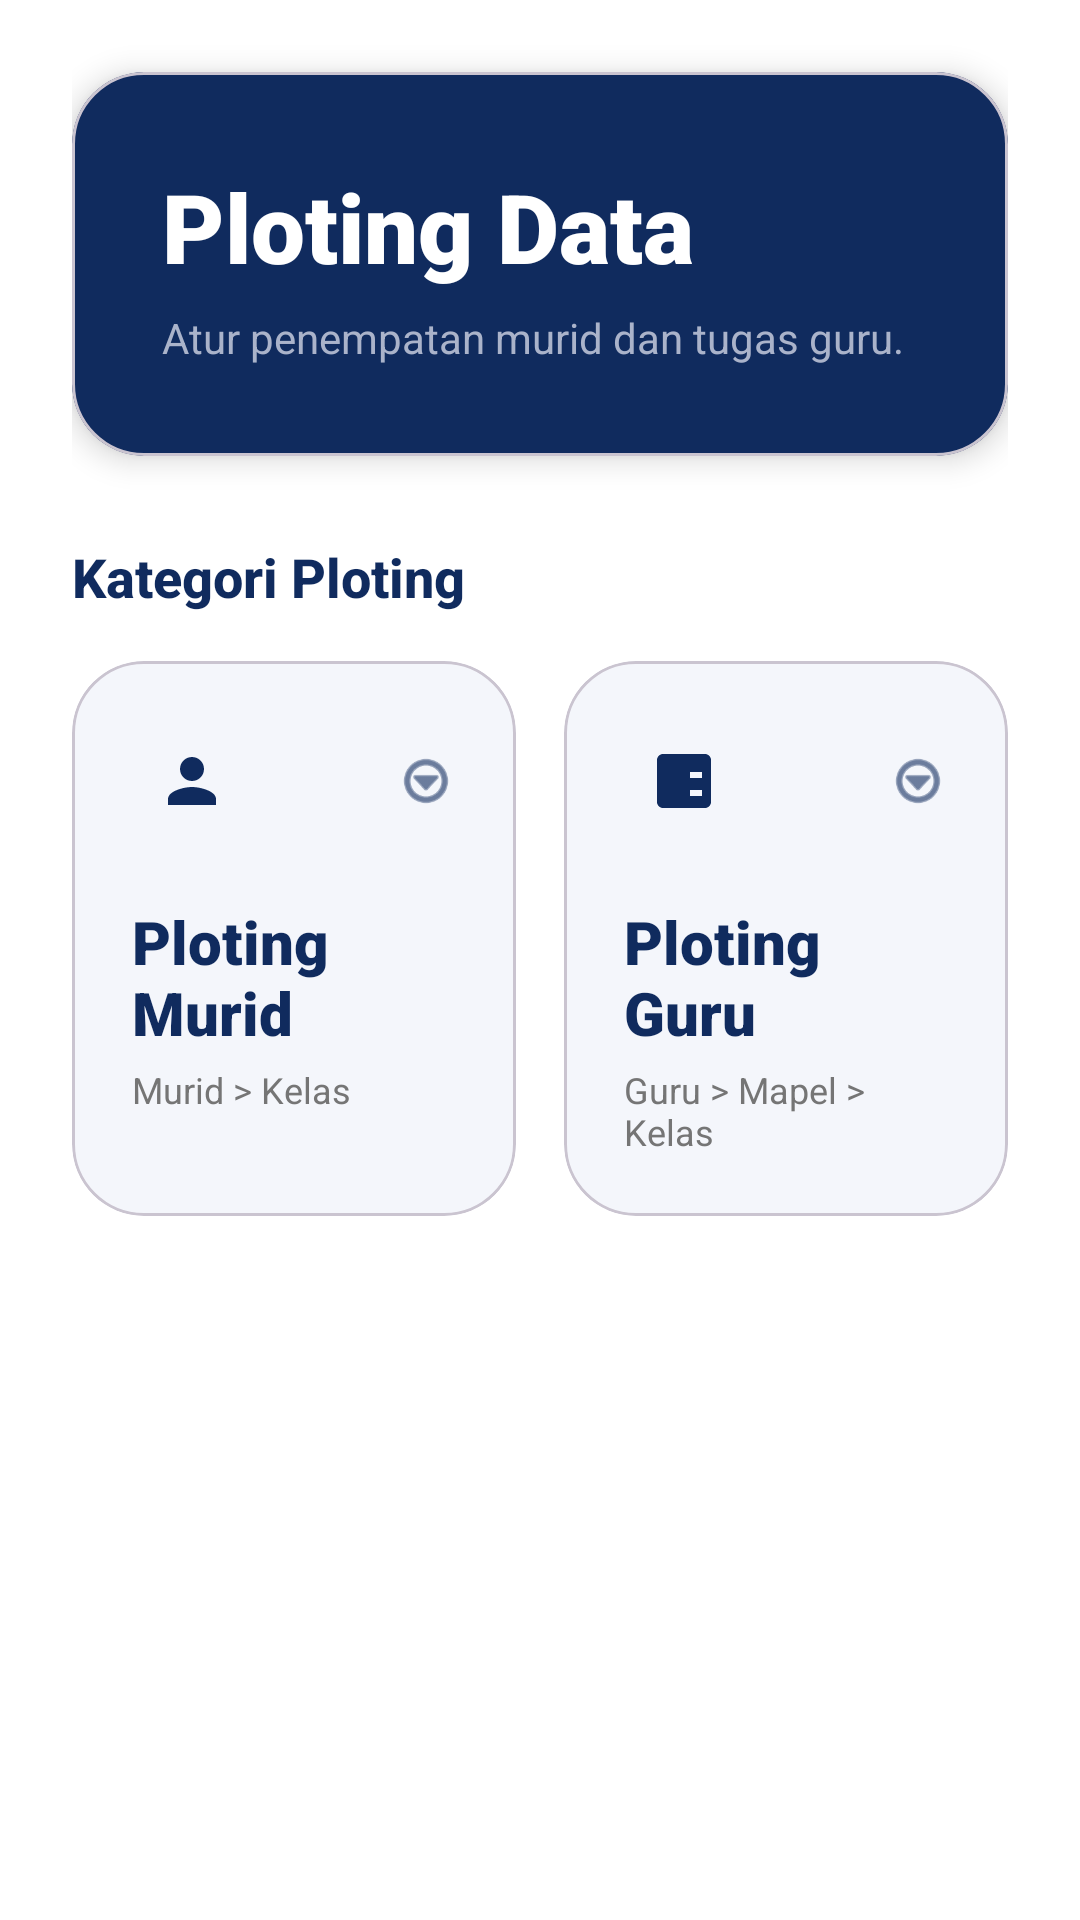

Named icons in this screenshot (1080 x 1920) and their centers, (x=x, y=y):
more: (x=426, y=781), (x=918, y=781)
student: (x=192, y=781)
